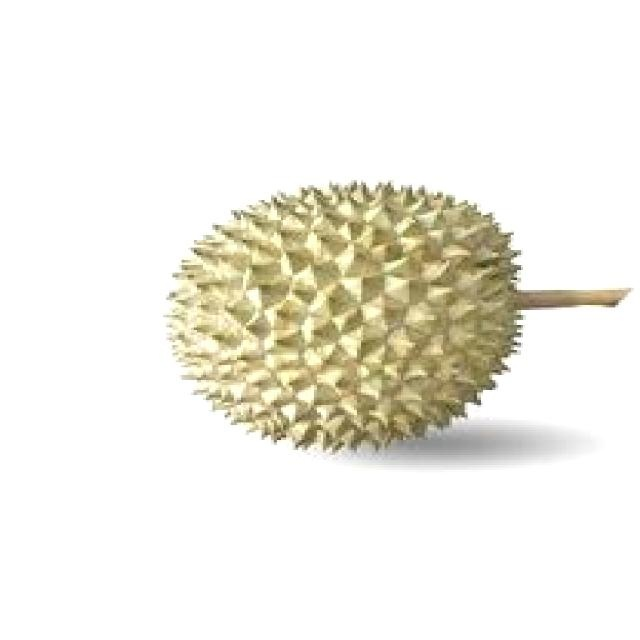agrume: (130, 158, 542, 482)
